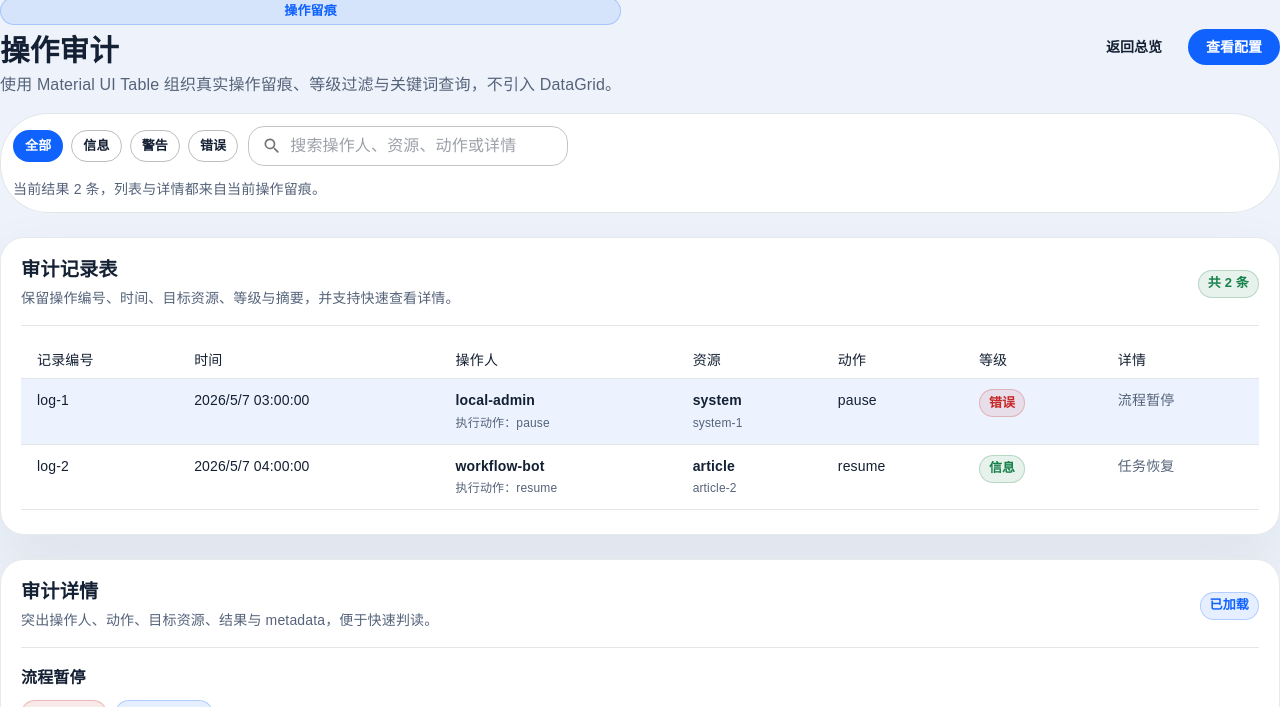
Scenario: AuditPage › clears stale detail when filters reduce the visible list to zero rows
This screenshot has width=1280, height=707.
In the field with placeholder "搜索操作人、资源、动作或详情": (429, 146) [290,126,568,166], type "not-found-keyword"
(page scrolled)
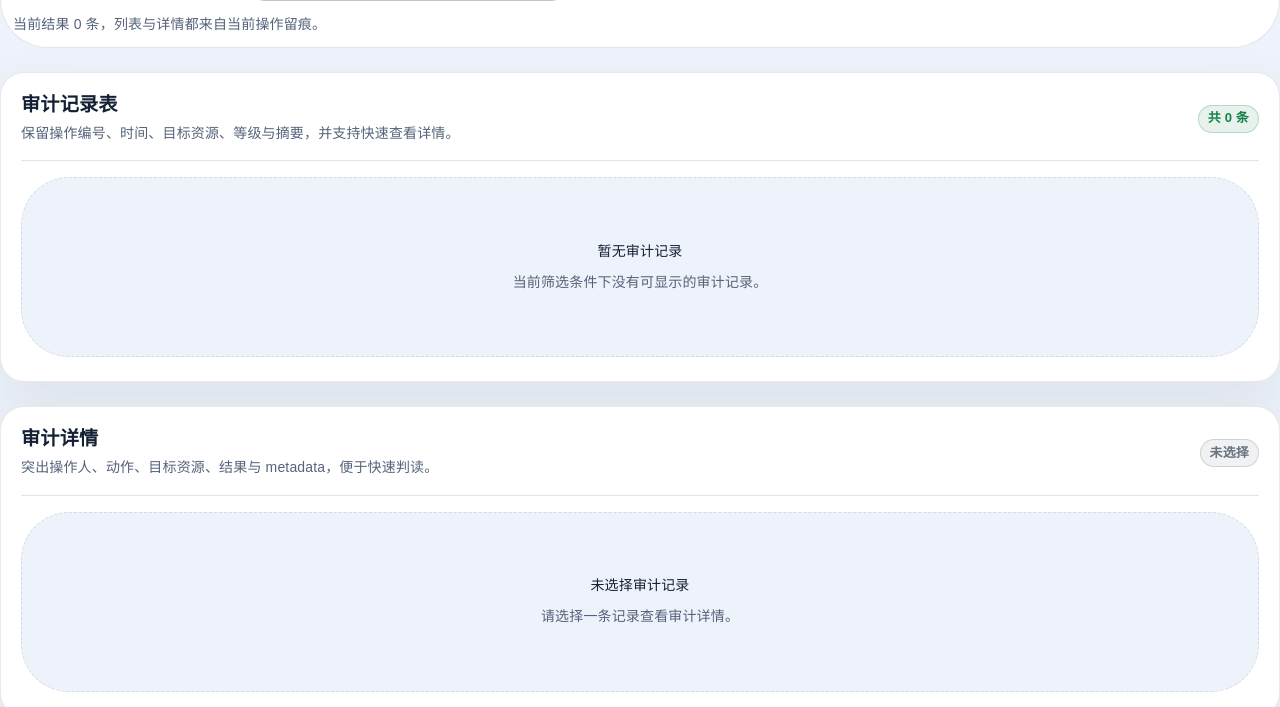
Result: the heading "暂无审计记录" is shown at [598,241,682,263]
Result: the message "未选择审计记录 请选择一条记录查看审计详情。" is shown at [21,512,1259,692]
Result: the text "请选择一条记录查看审计详情。" is shown at [541,605,739,628]
